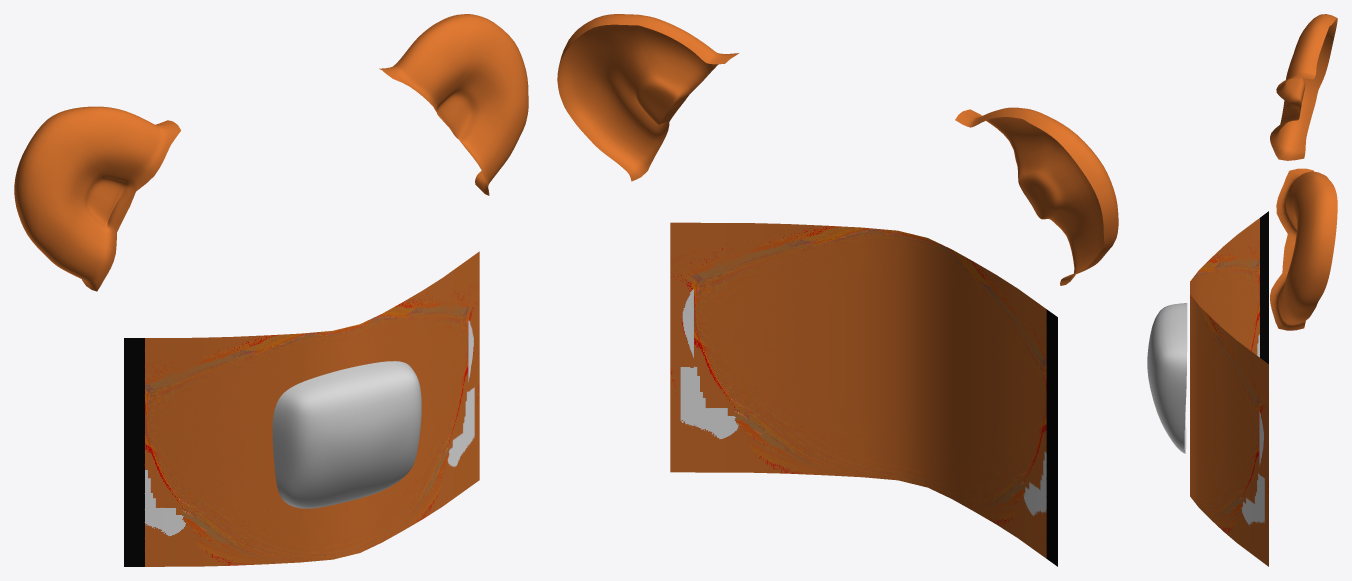
The model's file is Kesha_Mask_New.fbx.
The picture shows the model from 3 angles, left to right: view 1: azimuth 30°, elevation 25°; view 2: azimuth 150°, elevation 25°; view 3: azimuth 270°, elevation 25°; orthographic projection. The views are drawn at different scales.
Visible parts, largest first — view 1: m_Kesha; view 2: m_Kesha; view 3: m_Kesha.
Boxes of the visible parts, box(x1,y1,x2,y2) form: m_Kesha: box(14, 14, 528, 566); m_Kesha: box(557, 14, 1118, 566); m_Kesha: box(1147, 14, 1337, 566).
Size of the model in its own units: 33.65 by 27.86 by 12.37.
